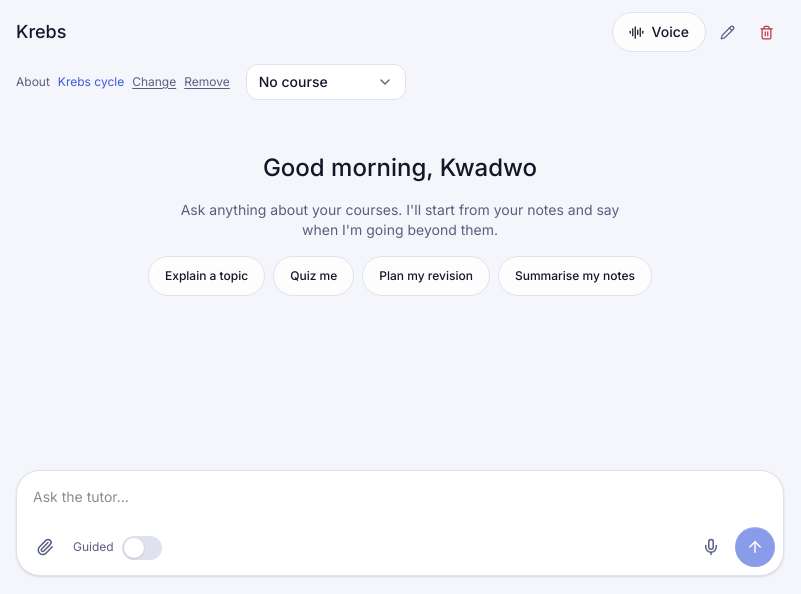
Test: ChatView › sends a message, shows the reply as it arrives, then the saved messages
This screenshot has width=801, height=594.
Type "Why?" into the text box named "Message" at (404, 501), box [33,479,775,523]
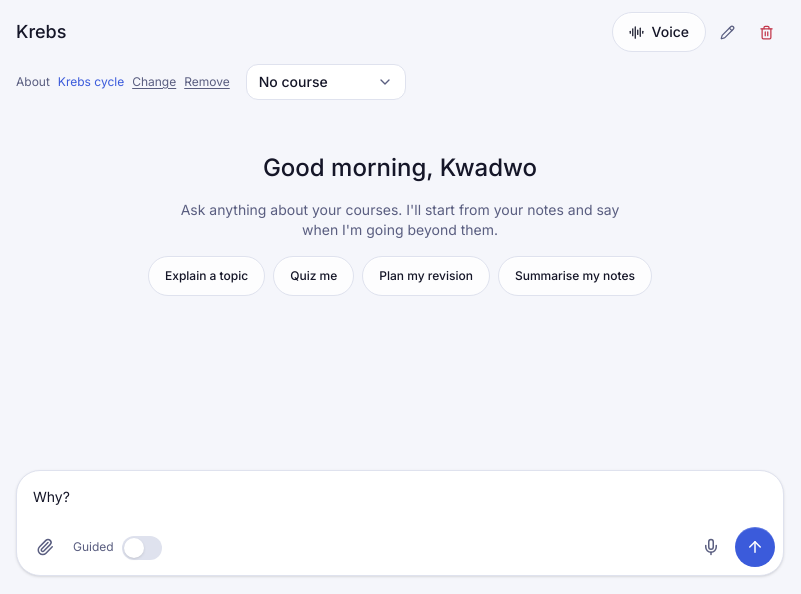
Click the button named "Send" at (755, 547), box [735,527,775,567]
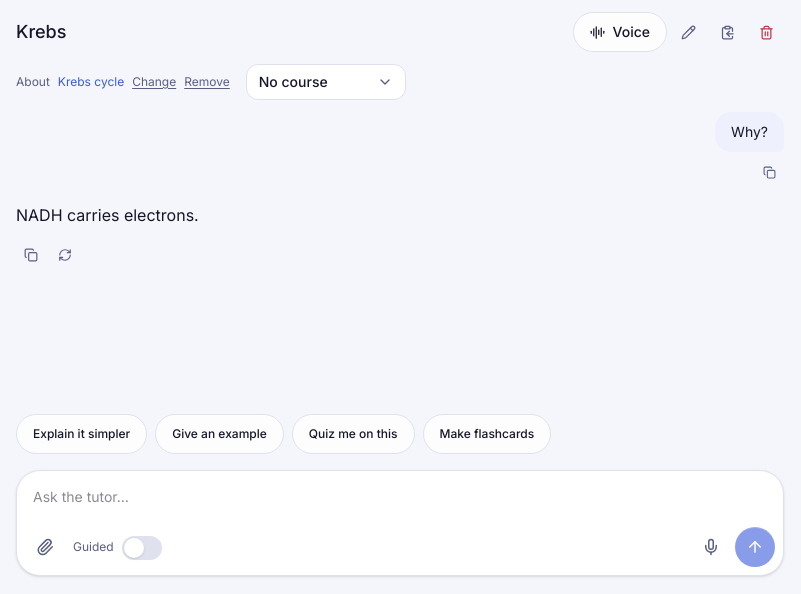
Result: the text "NADH carries electrons." is shown at [16,205,199,225]
Result: the text box named "Message" is empty at [33,479,775,523]
